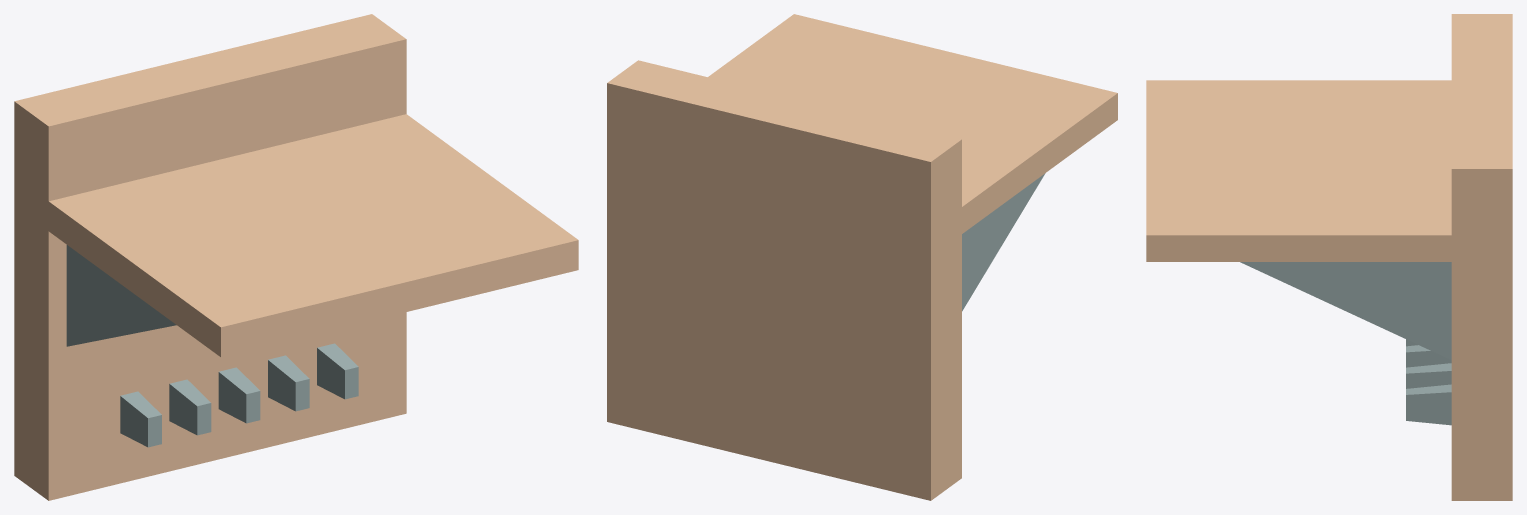
File: kn-coat-rack.glb
3 views of the same model, side by side, from view 1: azimuth 30°, elevation 25°; view 2: azimuth 150°, elevation 25°; view 3: azimuth 270°, elevation 25° (orthographic). The views are drawn at different scales.
Visible parts, largest first — view 1: coatRack(Clone); view 2: coatRack(Clone); view 3: coatRack(Clone).
Part boxes in pixels (x1,y1,x2,y2): coatRack(Clone): [14, 14, 578, 500]; coatRack(Clone): [607, 14, 1117, 500]; coatRack(Clone): [1146, 14, 1512, 500].
Size of the model in its own units: 1 by 1 by 1.
